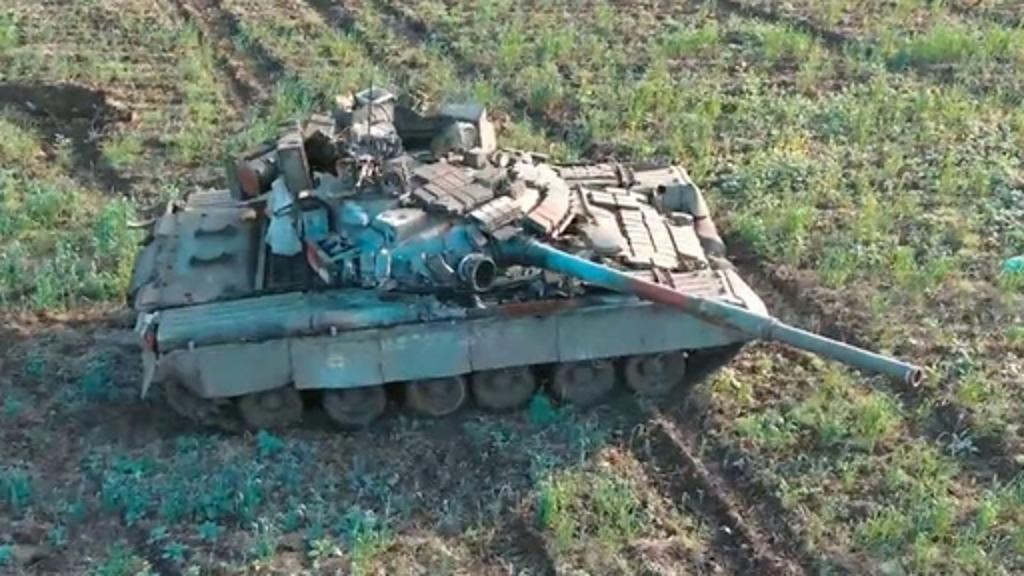TANK: (126, 80, 930, 498)
